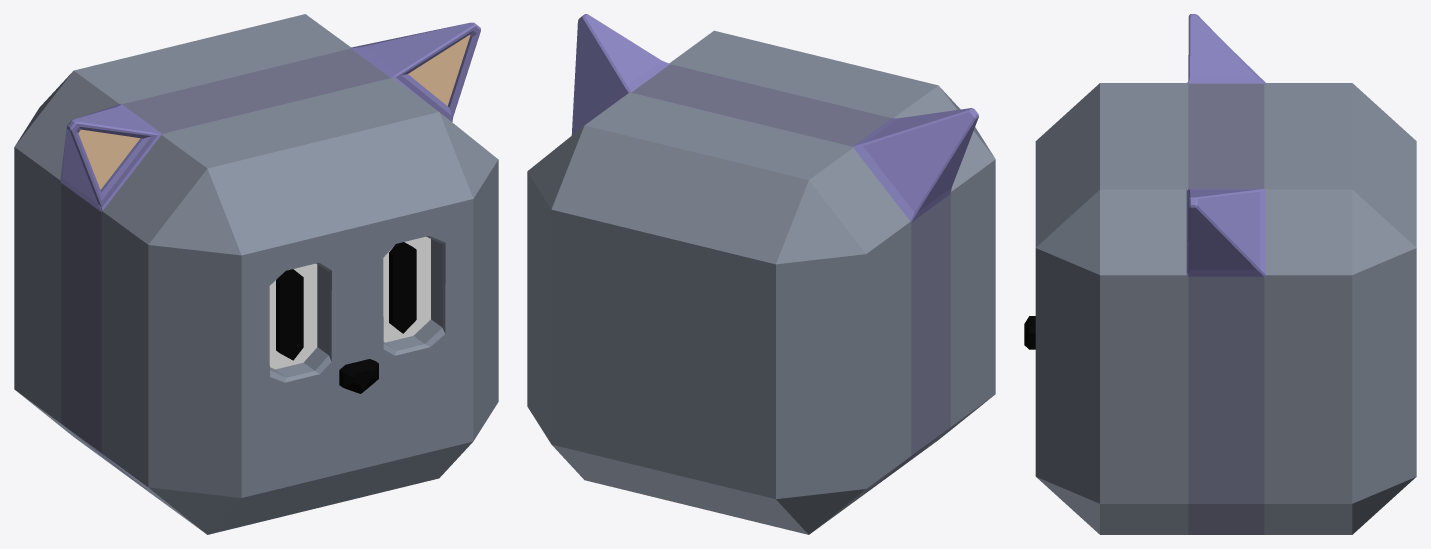
The model's file is player.fbx.
3 views of the same model, side by side, from view 1: azimuth 30°, elevation 25°; view 2: azimuth 150°, elevation 25°; view 3: azimuth 270°, elevation 25° (orthographic). The views are drawn at different scales.
Visible parts, largest first — view 1: PlayerModel; view 2: PlayerModel; view 3: PlayerModel.
Part boxes in pixels (<box>): PlayerModel: <box>14,14,498,534</box>; PlayerModel: <box>527,14,995,534</box>; PlayerModel: <box>1024,14,1416,534</box>.
Bounding box in the file's own units: 235 × 218 × 206.
